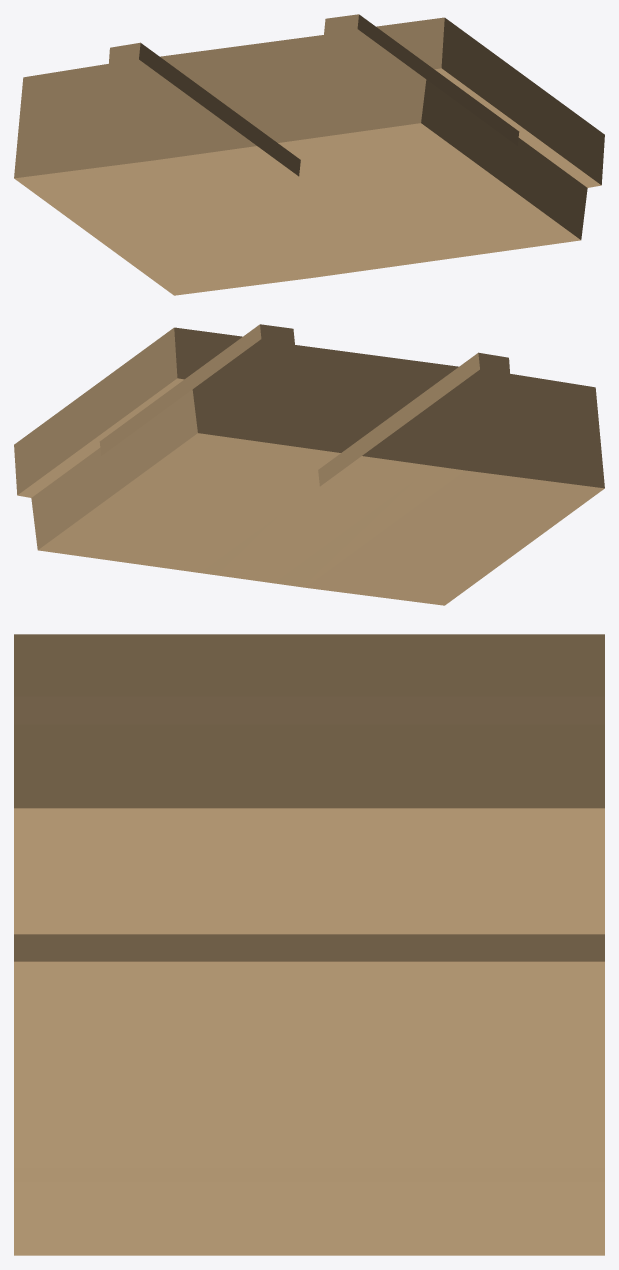
3 renders of one model, top to bottom at view 1: azimuth 30°, elevation 25°; view 2: azimuth 150°, elevation 25°; view 3: azimuth 270°, elevation 25°, orthographic. The views are drawn at different scales.
Visible parts, largest first — view 1: 0_0_3_1_2_1_1_0_3; view 2: 0_0_3_1_2_1_1_0_3; view 3: 0_0_3_1_2_1_1_0_3.
Boxes of the visible parts, left/top/right/bottom form: 0_0_3_1_2_1_1_0_3: left=14, top=14, right=604, bottom=295; 0_0_3_1_2_1_1_0_3: left=14, top=324, right=604, bottom=605; 0_0_3_1_2_1_1_0_3: left=14, top=634, right=604, bottom=1255.
Bounding box in the file's own units: 37.25 × 12.5 × 24.
